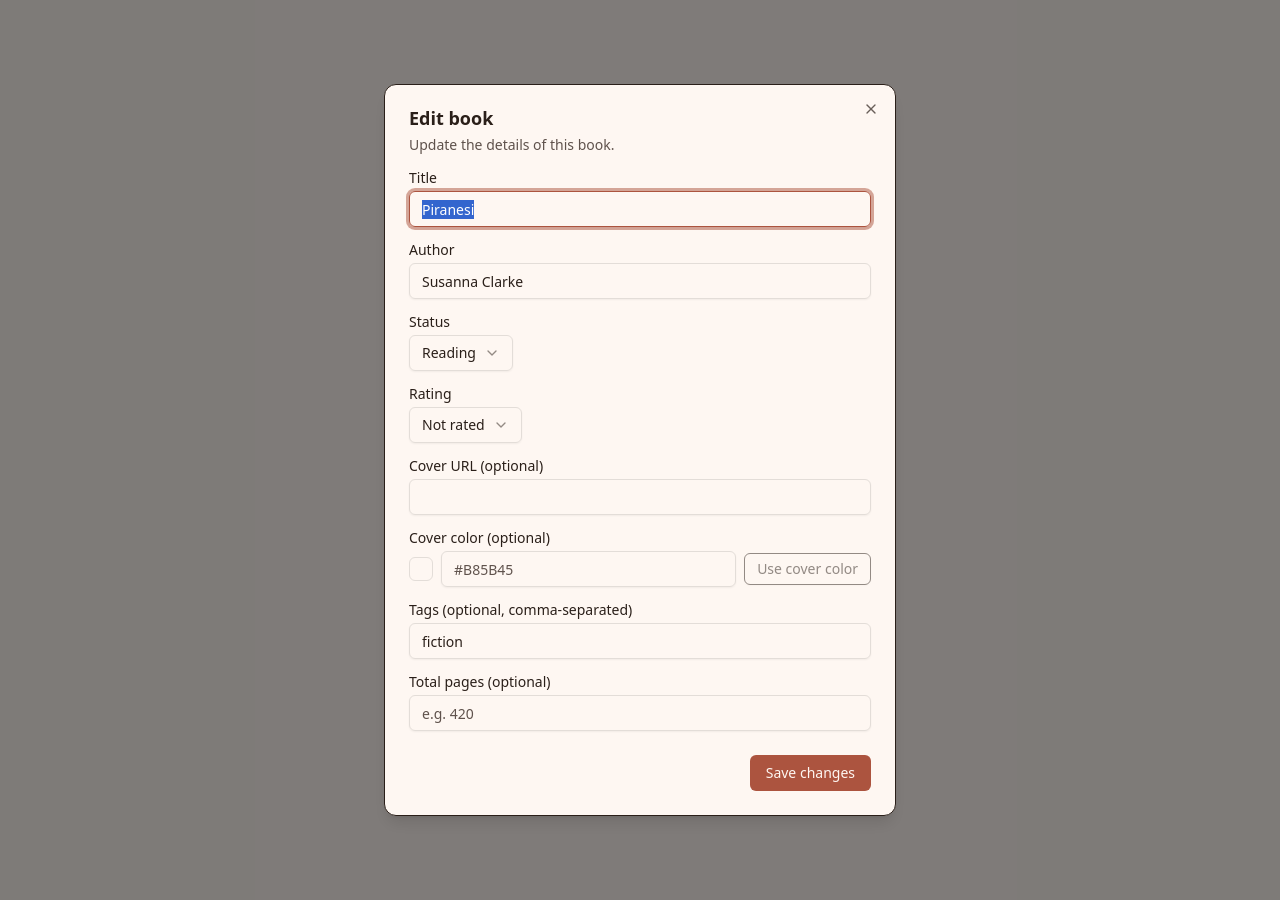
Test case: EditBookDialog › shows form error and preserves fields on storage failure
Expected: the dialog is shown, [384, 84, 896, 816]
Step 1. Replace the text in the field labelled "Title" with "New Title" → (640, 209), box [409, 191, 871, 227]
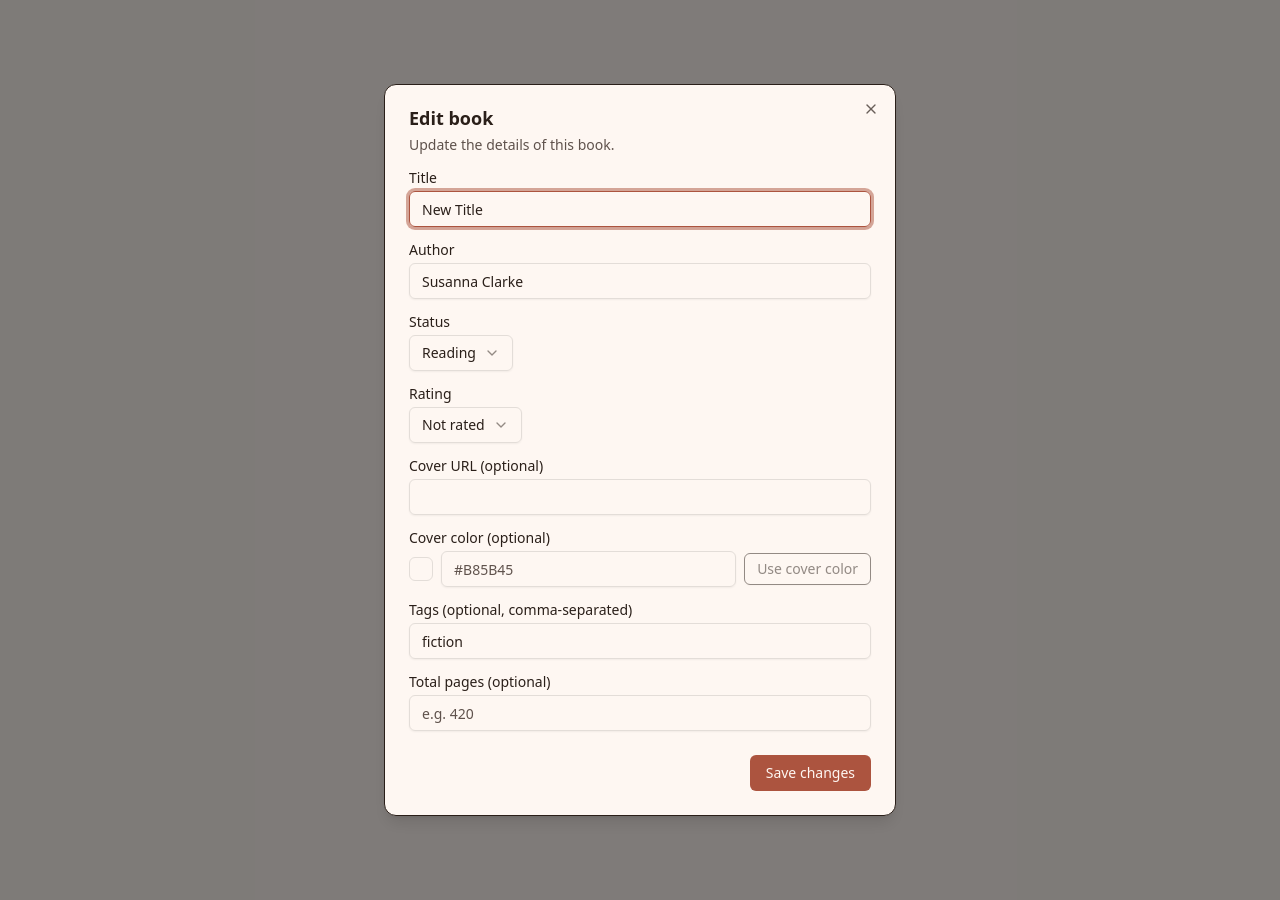
Step 2. Click the button "Save changes" → click(810, 773), box [750, 755, 871, 791]
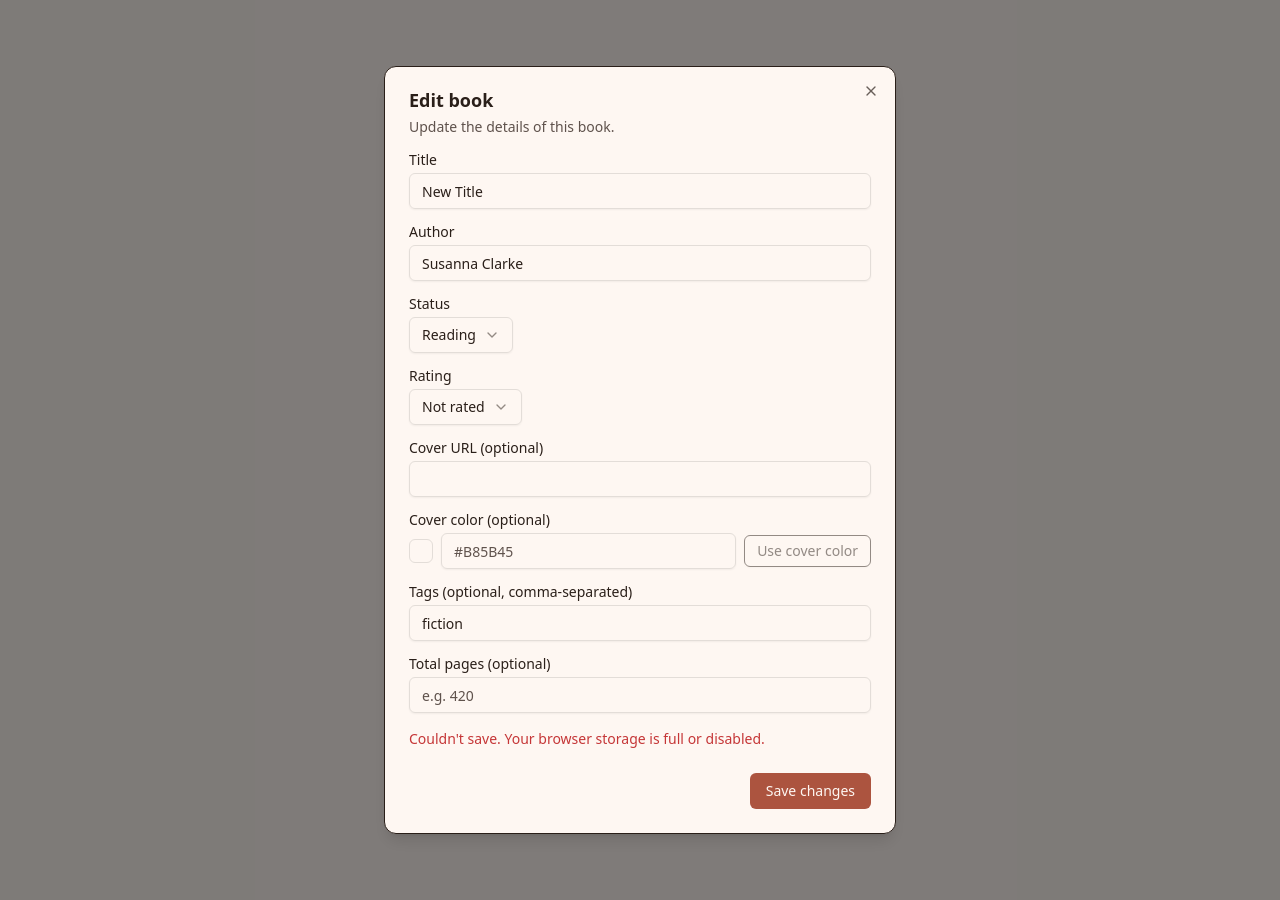
Now the message shows "Couldn't save", box [409, 729, 765, 748]
